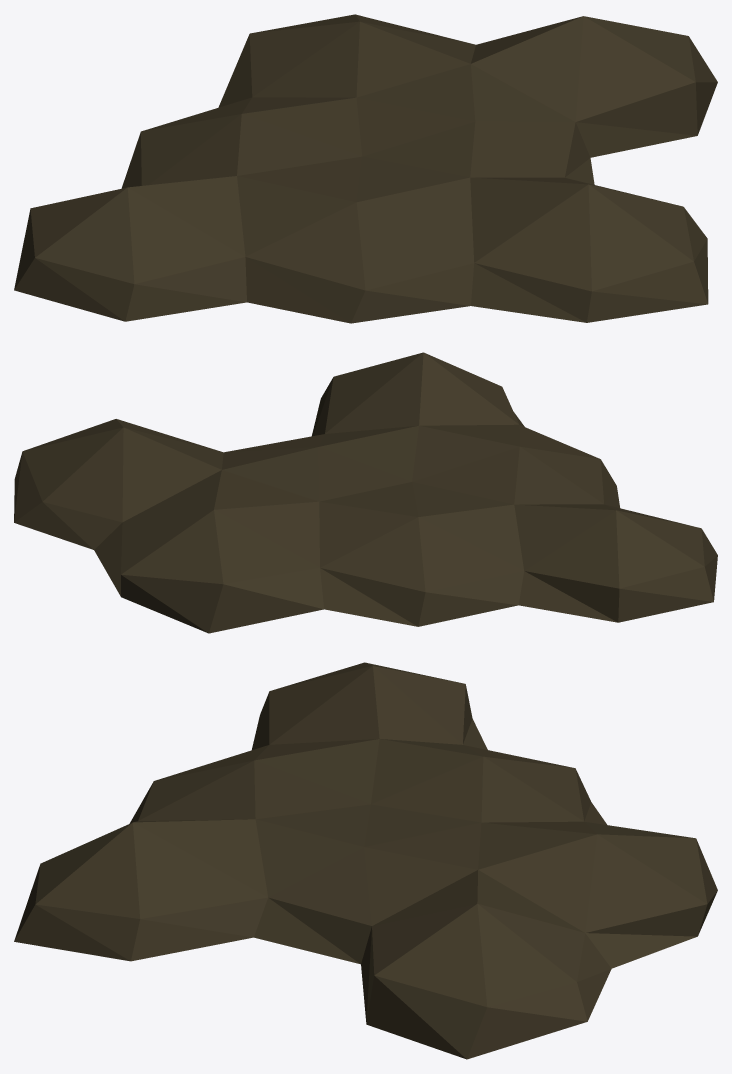
File: ITFO_PLANTS_MOUNTAINMOOS_01.OBJ
3 views of the same model, one above another, from view 1: azimuth 30°, elevation 25°; view 2: azimuth 150°, elevation 25°; view 3: azimuth 270°, elevation 25° (orthographic). The views are drawn at different scales.
Parts seen in each view (by area): view 1: ITFO_PLANTS_MOUNTAINMOOS_01; view 2: ITFO_PLANTS_MOUNTAINMOOS_01; view 3: ITFO_PLANTS_MOUNTAINMOOS_01.
Boxes of the visible parts, <box> form: ITFO_PLANTS_MOUNTAINMOOS_01: <box>14,14,717,323</box>; ITFO_PLANTS_MOUNTAINMOOS_01: <box>14,352,717,633</box>; ITFO_PLANTS_MOUNTAINMOOS_01: <box>14,662,717,1059</box>.
Bounding box in the file's own units: 0.6679 × 0.0798 × 0.5462.
